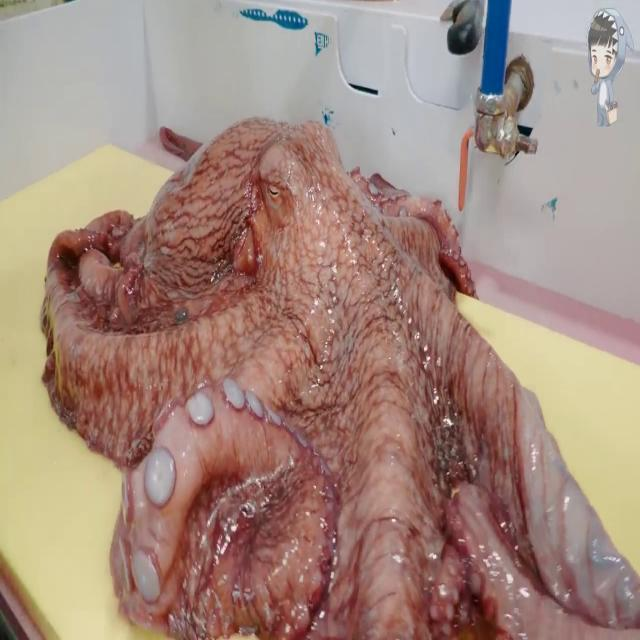octopus: (42, 122, 640, 640)
